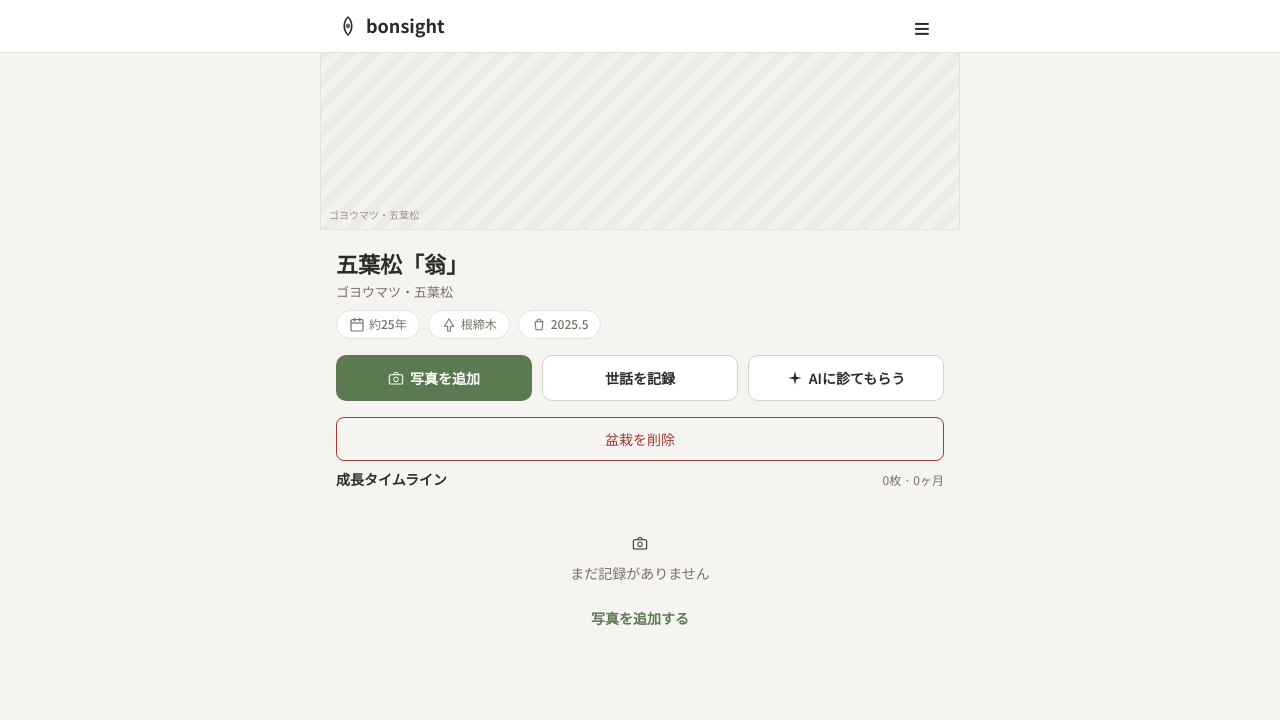
Scenario: S3Detail › フォームの「キャンセル」でフォームが閉じる
The image size is (1280, 720).
(page scrolled)
Check: the heading "五葉松「翁」" is shown, box [336, 247, 468, 279]
What coordinates should you click on to do the following:
click the button "世話を記録"
I would click on:
 (640, 378)
Its box is [542, 355, 738, 401].
(page scrolled)
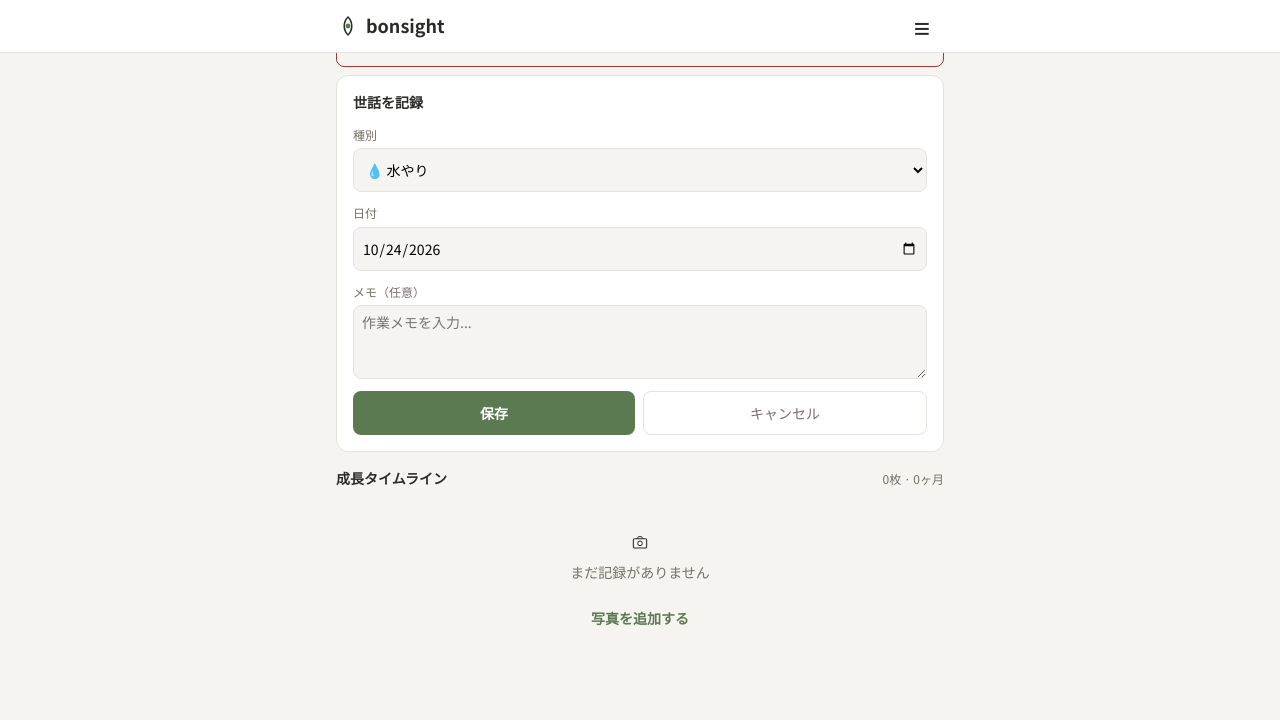
Check: the button "キャンセル" is shown
What coordinates should you click on to do the following:
click the button "キャンセル"
I would click on:
 (785, 413)
Its box is [643, 391, 927, 435].
(page scrolled)
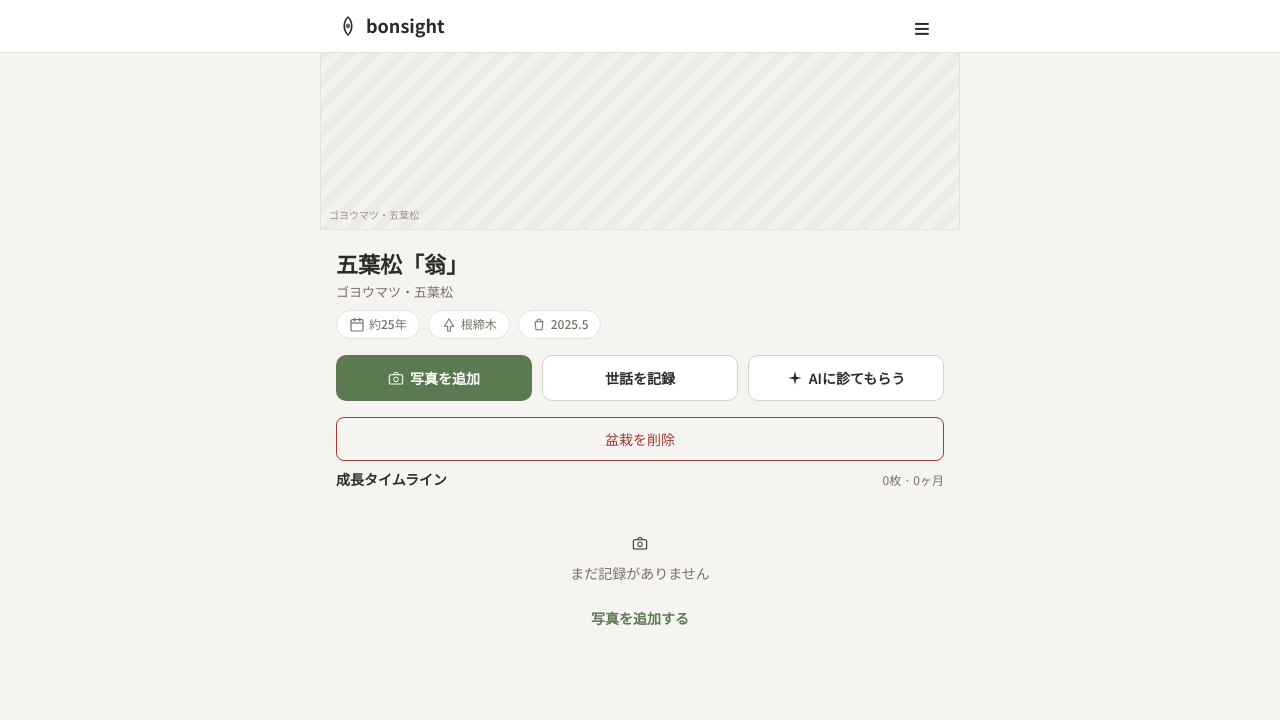
Check: the button "保存" is gone
